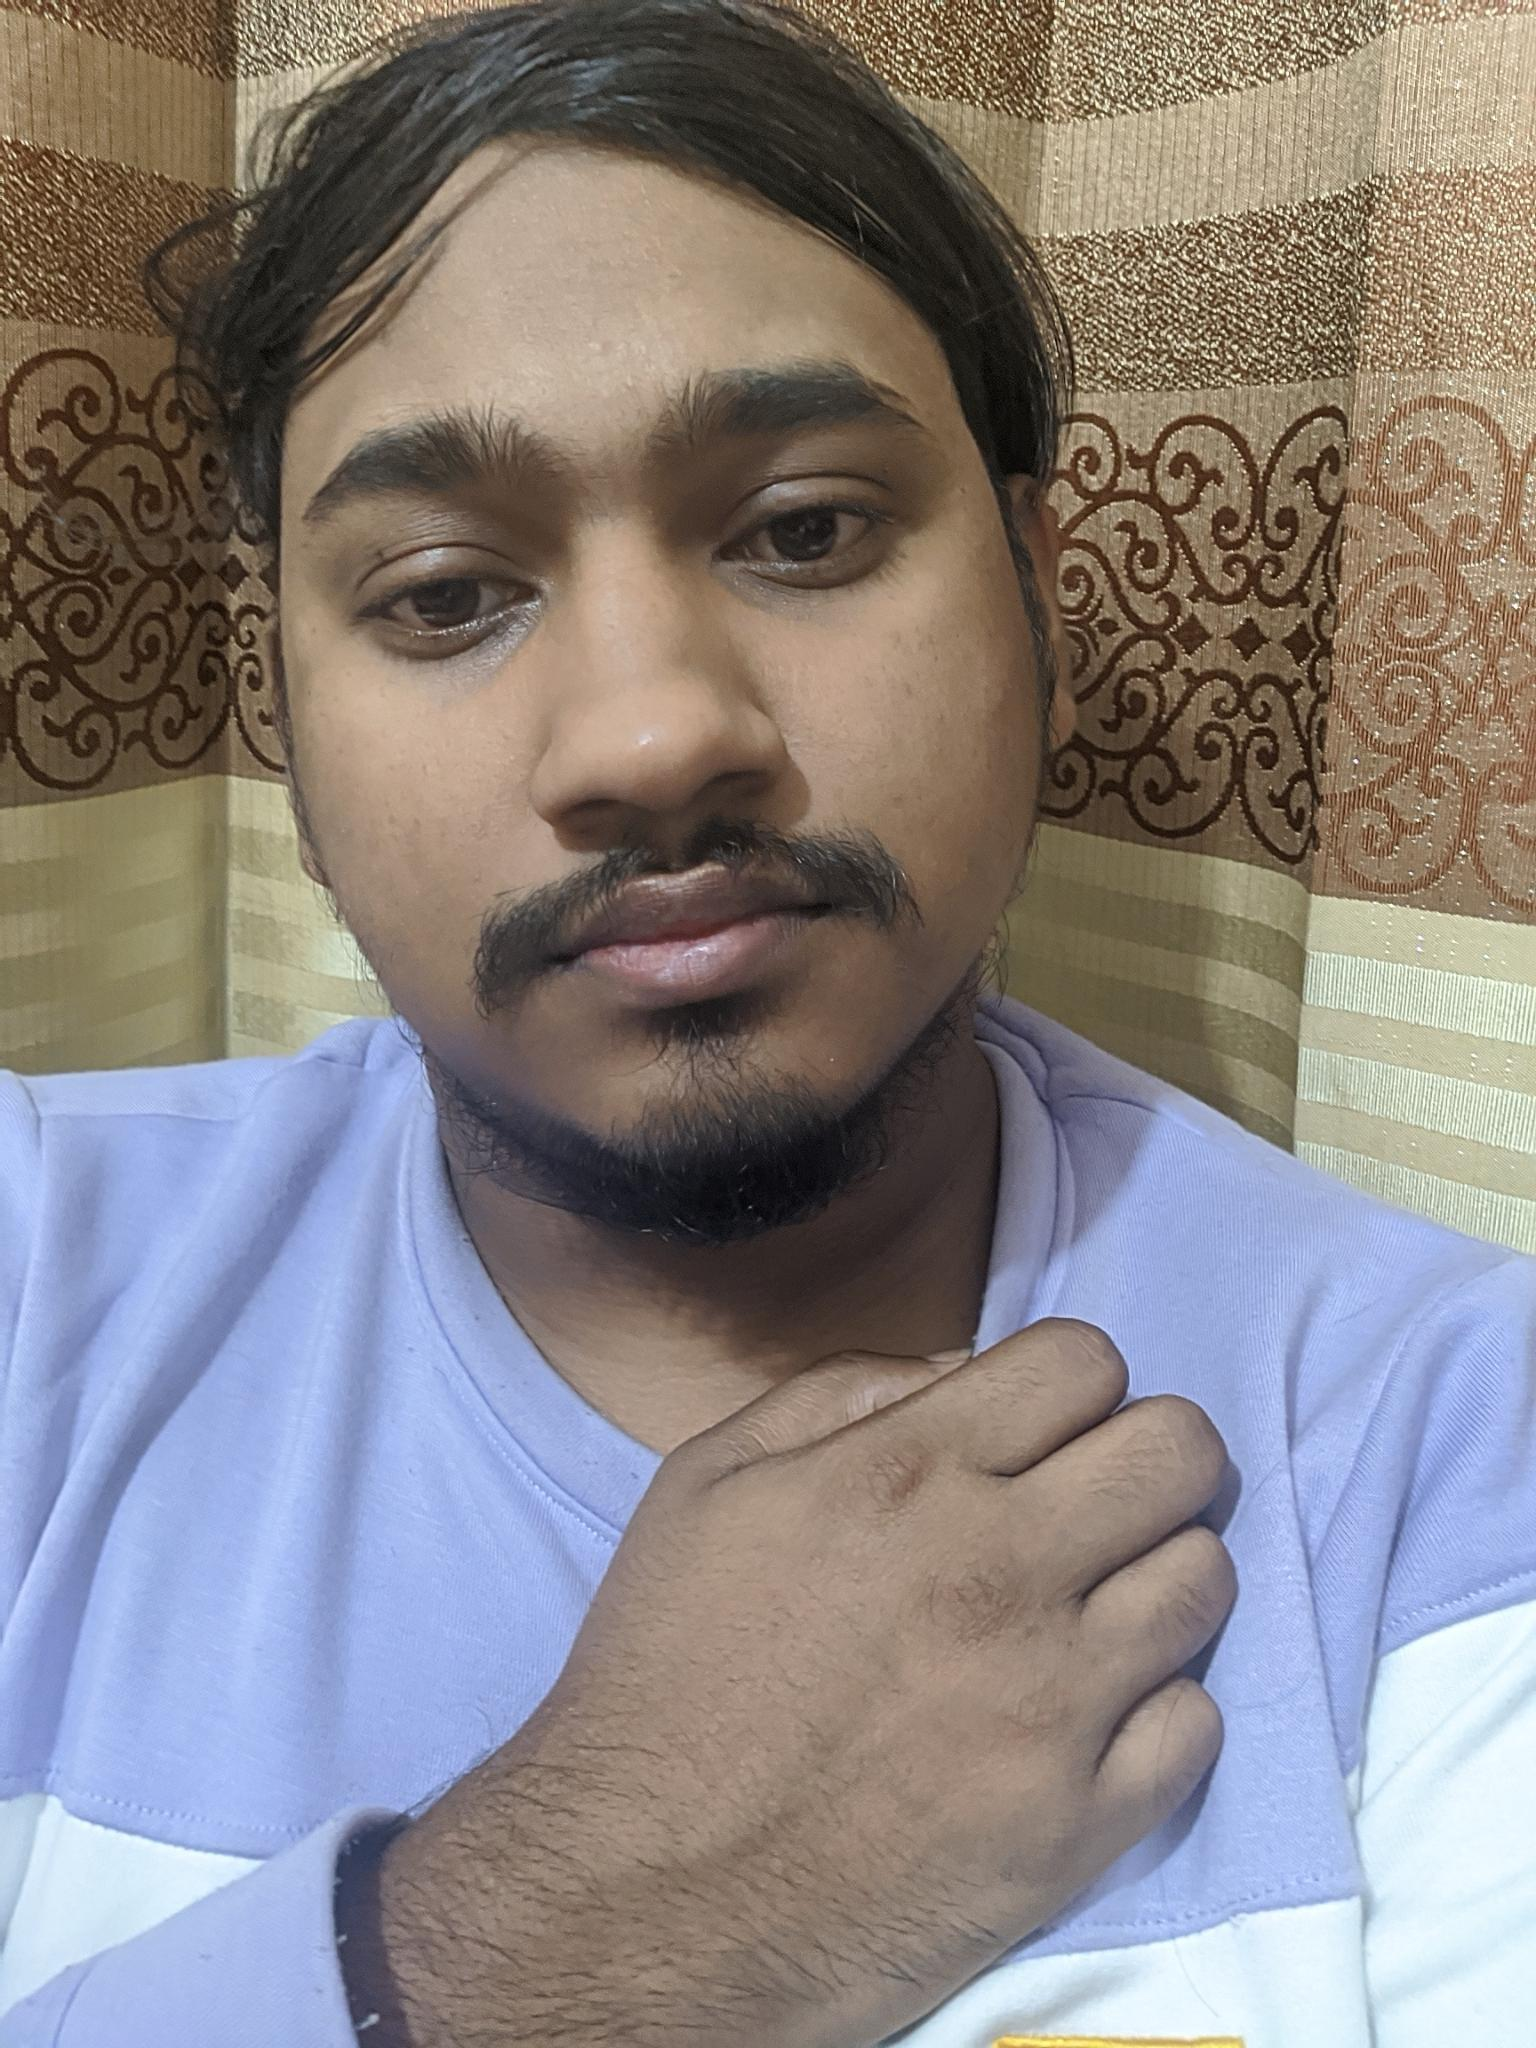Neutral: (232, 295, 1092, 1211)
